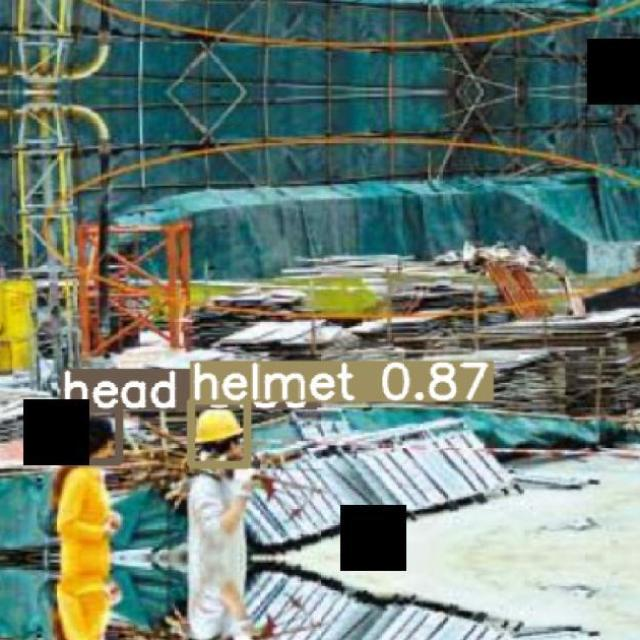helmet: (193, 407, 243, 444)
